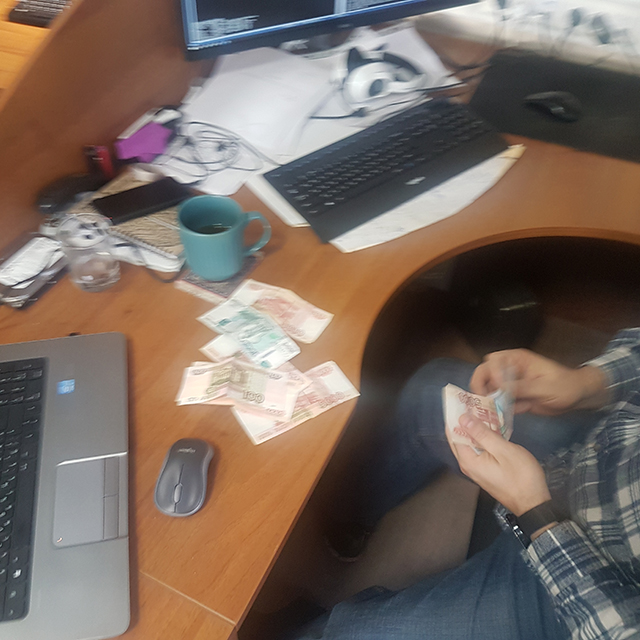banknotes: (231, 361, 353, 442), (188, 360, 301, 421), (232, 275, 332, 342), (202, 300, 301, 365), (440, 369, 510, 450)
